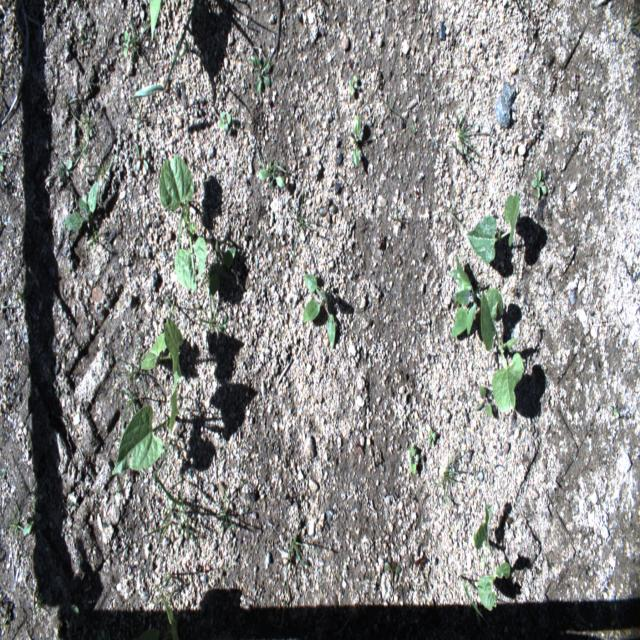crop: (110, 315, 184, 475), (156, 148, 208, 295), (480, 286, 525, 416), (473, 502, 510, 612), (466, 192, 520, 264)
weed: (128, 7, 194, 101), (302, 269, 336, 346), (61, 175, 100, 237), (449, 258, 478, 334), (159, 559, 183, 633), (286, 523, 312, 590), (162, 483, 191, 537), (295, 193, 317, 247), (253, 51, 277, 100), (438, 448, 462, 492), (213, 491, 235, 539), (256, 157, 286, 190), (50, 152, 76, 190), (346, 110, 363, 167), (318, 189, 339, 234), (123, 21, 146, 61), (457, 120, 476, 168), (200, 294, 224, 332), (78, 113, 97, 153), (132, 138, 150, 180), (78, 14, 97, 51), (119, 371, 136, 411), (532, 157, 547, 200), (215, 102, 235, 133), (476, 382, 493, 417), (382, 559, 403, 586), (149, 0, 162, 40), (527, 5, 543, 37), (26, 583, 42, 615), (407, 433, 418, 478), (608, 393, 625, 422), (64, 92, 84, 116), (84, 155, 108, 174), (9, 500, 22, 534), (212, 242, 235, 260), (28, 478, 40, 512), (64, 598, 80, 623), (23, 512, 39, 536), (426, 420, 438, 450), (410, 554, 429, 572), (0, 139, 8, 175), (60, 496, 76, 514), (86, 228, 100, 247), (347, 75, 359, 97), (407, 116, 417, 139), (392, 213, 405, 228), (386, 94, 396, 112), (163, 288, 174, 304), (18, 283, 25, 303), (2, 606, 8, 626), (4, 466, 8, 479)
